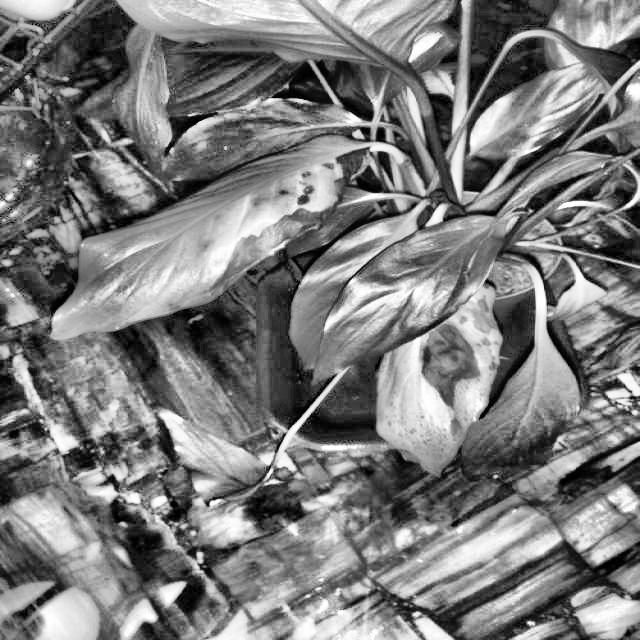plants: (60, 0, 639, 510), (23, 152, 364, 336), (380, 286, 520, 480), (526, 0, 639, 66)
